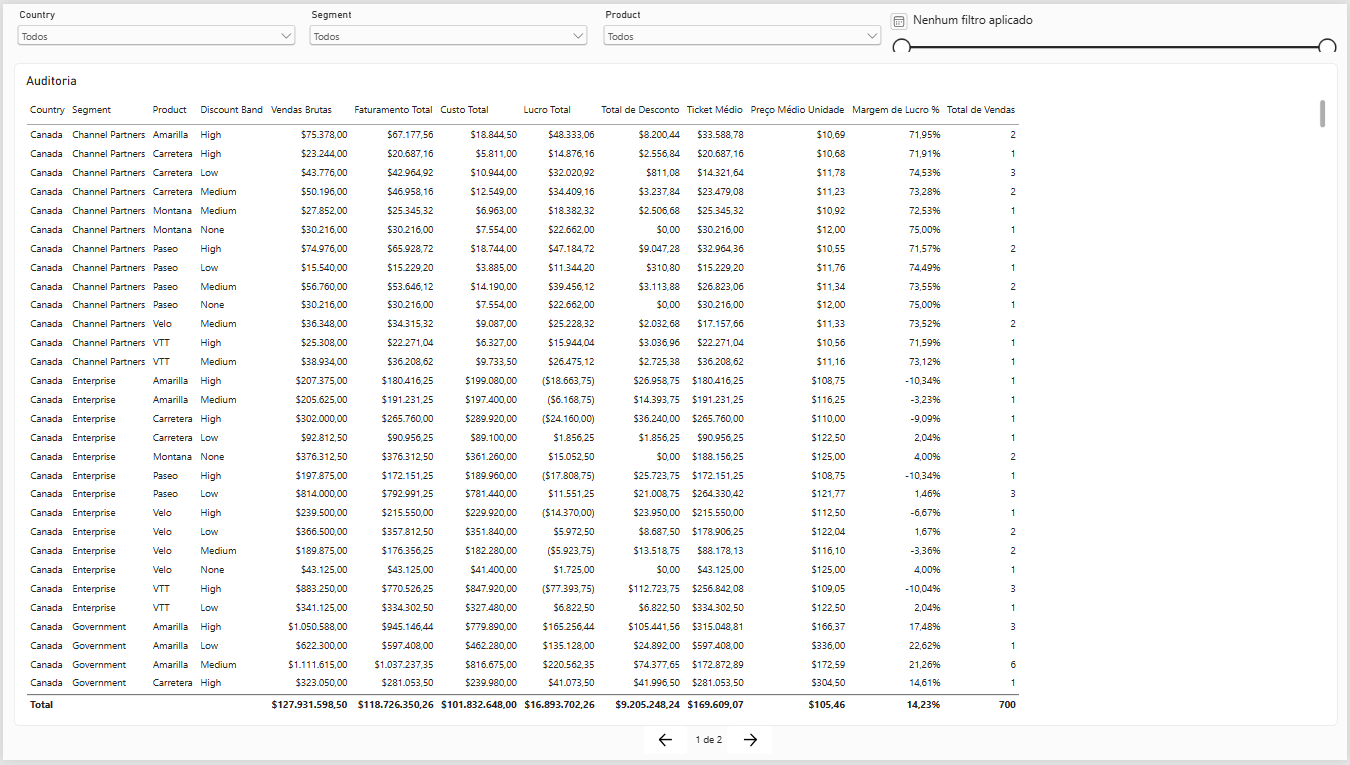

The page's visual inventory and layout, read from the dashboard file:
{"tool":"powerbi","page":{"name":"Página  2","canvas":[1920,1080],"ordinal":1},"visuals":[{"type":"slicer","fields":{"Values":["dim_country.Country"]},"box":[15,6.7,406.7,76.7],"z":0},{"type":"slicer","fields":{"Values":["dim_segment.Segment"]},"box":[433.3,6.7,406.7,76.7],"z":1000},{"type":"slicer","fields":{"Values":["dim_calendar.Date"]},"box":[1260.4,6.7,647.7,61.9],"z":2000},{"type":"slicer","fields":{"Values":["dim_product.Product"]},"box":[853.3,6.7,406.7,76.7],"z":3000},{"type":"actionButton","box":[916.2,1031.2,61.7,40],"z":4000},{"type":"actionButton","box":[1033.8,1031.2,65,40],"z":5000},{"type":"textbox","box":[960,1040,96.2,40],"z":6000},{"type":"tableEx","title":"Auditoria","fields":{"Values":["dim_country.Country","dim_segment.Segment","dim_product.Product","dim_discount_band.Discount Band","_Medidas.Vendas Brutas","_Medidas.Faturamento Total","_Medidas.Custo Total","_Medidas.Lucro Total","_Medidas.Total de Desconto","_Medidas.Ticket Médio","_Medidas.Preço Médio Unidade","_Medidas.Margem de Lucro %"]},"box":[15.7,84.3,1891.4,947.1],"z":7000}]}

Visuals, with their boxes in screenshot pixels (x1, y1, x2, y2), scaled from the page's 1920x1080 canvas onto the 1350x765 screenshot:
slicer - dim_country.Country: left=11, top=5, right=297, bottom=59
slicer - dim_segment.Segment: left=305, top=5, right=591, bottom=59
slicer - dim_calendar.Date: left=886, top=5, right=1342, bottom=49
slicer - dim_product.Product: left=600, top=5, right=886, bottom=59
actionButton: left=644, top=730, right=688, bottom=759
actionButton: left=727, top=730, right=773, bottom=759
textbox: left=675, top=737, right=743, bottom=764
"Auditoria" tableEx: left=11, top=60, right=1341, bottom=731
